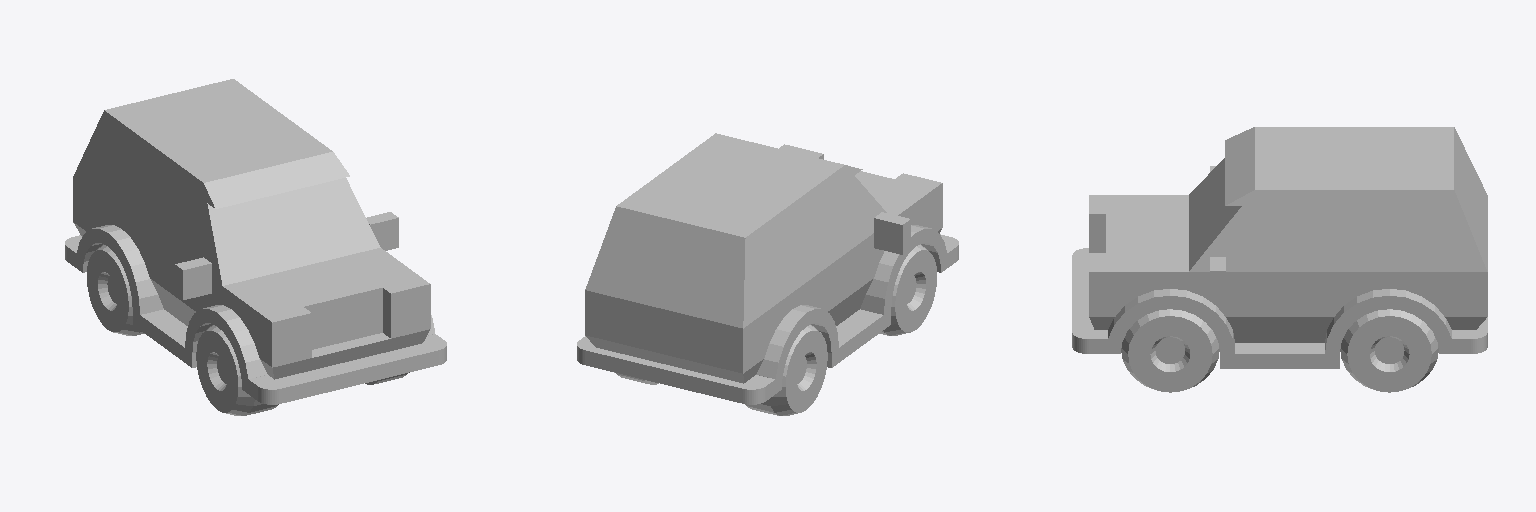
File: suv.obj
The picture shows the model from 3 angles: view 1: azimuth 30°, elevation 25°; view 2: azimuth 150°, elevation 25°; view 3: azimuth 270°, elevation 25°; orthographic projection.
Visible parts, largest first — view 1: body, wheel_frontRight, wheel_backRight; view 2: body, wheel_backRight, wheel_frontRight; view 3: body, wheel_backLeft, wheel_frontLeft.
Part boxes in pixels (x1,y1,x2,y2): body: (65, 79, 446, 404); wheel_frontRight: (196, 325, 278, 415); wheel_backRight: (87, 244, 144, 335); body: (577, 133, 958, 404); wheel_backRight: (745, 325, 827, 415); wheel_frontRight: (879, 244, 936, 335); body: (1072, 127, 1487, 368); wheel_backLeft: (1340, 309, 1438, 392); wheel_frontLeft: (1121, 309, 1219, 392).
Bounding box in the file's own units: 1.12 × 0.975 × 1.88.